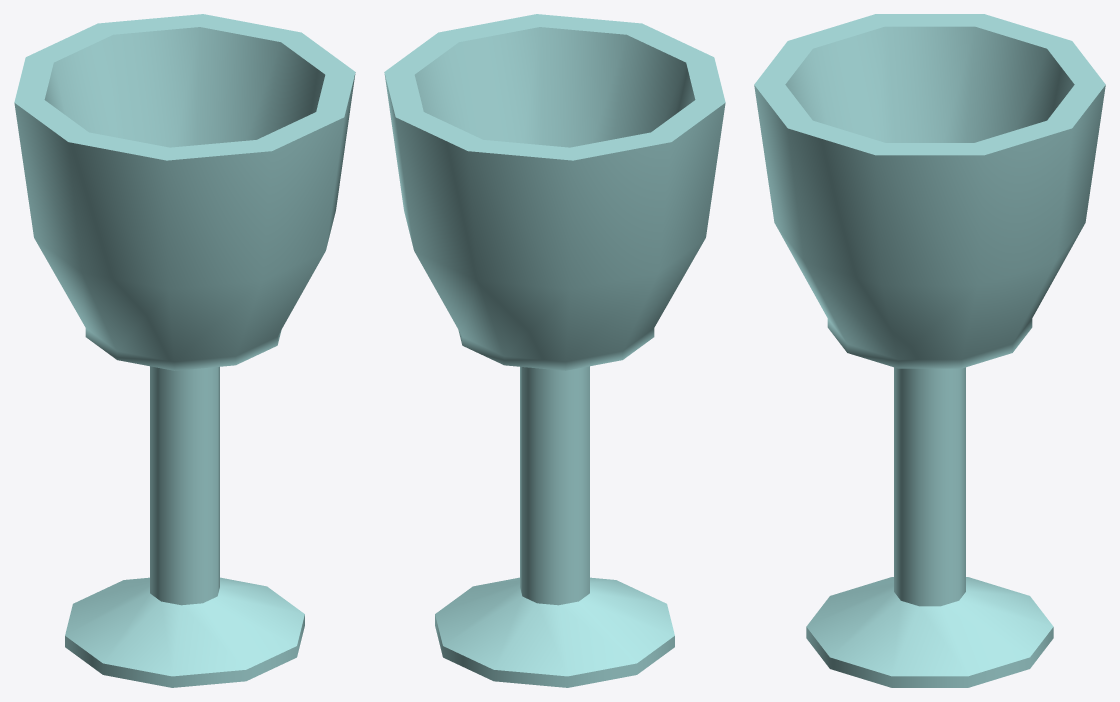
Rendered from glass.fbx.
The picture shows the model from 3 angles, left to right: view 1: azimuth 30°, elevation 25°; view 2: azimuth 150°, elevation 25°; view 3: azimuth 270°, elevation 25°; orthographic projection.
Parts seen in each view (by area): view 1: pCylinder1; view 2: pCylinder1; view 3: pCylinder1.
Boxes of the visible parts, <box> form: pCylinder1: <box>14,14,355,687</box>; pCylinder1: <box>384,14,725,687</box>; pCylinder1: <box>754,14,1105,687</box>.
Size of the model in its own units: 2.71 by 4.94 by 2.84.
